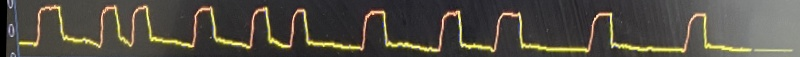normal_pressure: (15, 1, 765, 57)
